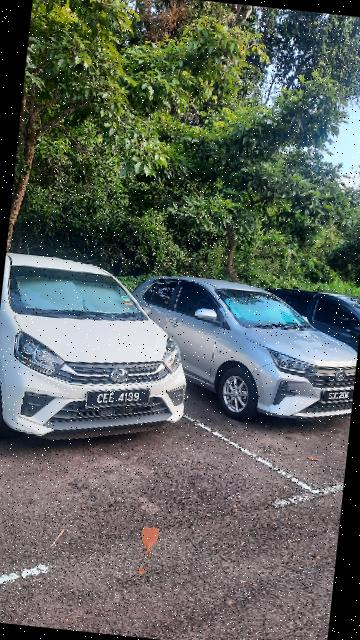License_Plate: (86, 382, 156, 416), (319, 388, 355, 409)
car: (1, 250, 206, 462), (123, 267, 360, 434)
